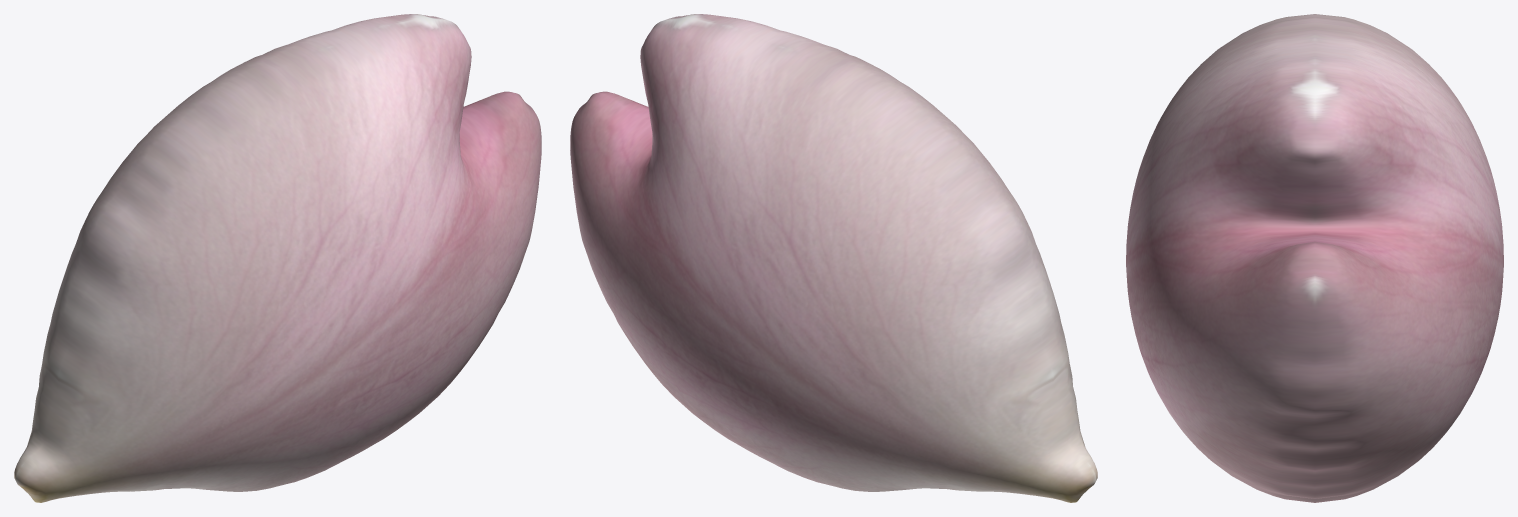
The model's file is petal.glb.
The picture shows the model from 3 angles, left to right: view 1: azimuth 30°, elevation 25°; view 2: azimuth 150°, elevation 25°; view 3: azimuth 270°, elevation 25°; orthographic projection. The views are drawn at different scales.
Size of the model in its own units: 4.84 by 3.74 by 2.65.
1 material, 1 textured.
